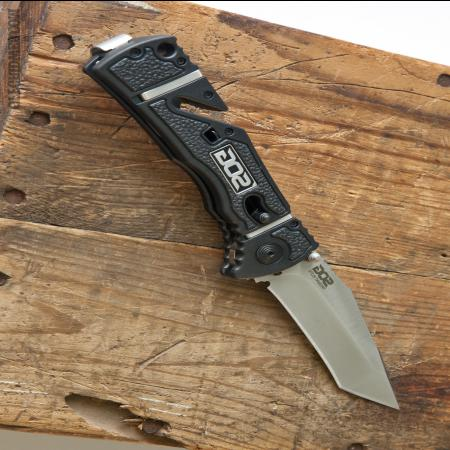long weapon: (233, 230, 405, 414)
